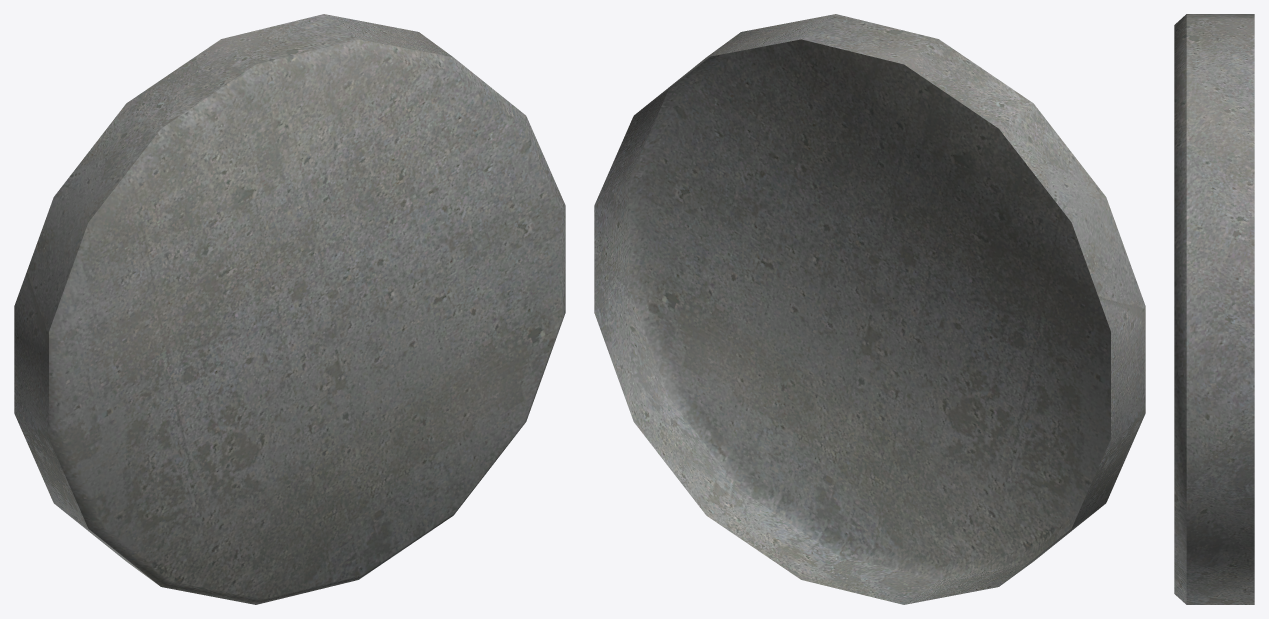
File: nt_2020_paver_circle_01_LOD1.obj
3 renders of one model, left to right at view 1: azimuth 30°, elevation 25°; view 2: azimuth 150°, elevation 25°; view 3: azimuth 270°, elevation 25°, orthographic.
Visible parts, largest first — view 1: jun_art_concrete_base02; view 2: jun_art_concrete_base02; view 3: jun_art_concrete_base02.
Boxes of the visible parts, bbox=[...] form: jun_art_concrete_base02: bbox=[14, 14, 565, 604]; jun_art_concrete_base02: bbox=[594, 14, 1145, 604]; jun_art_concrete_base02: bbox=[1174, 14, 1254, 604].
Size of the model in its own units: 113 by 113 by 15.57.
